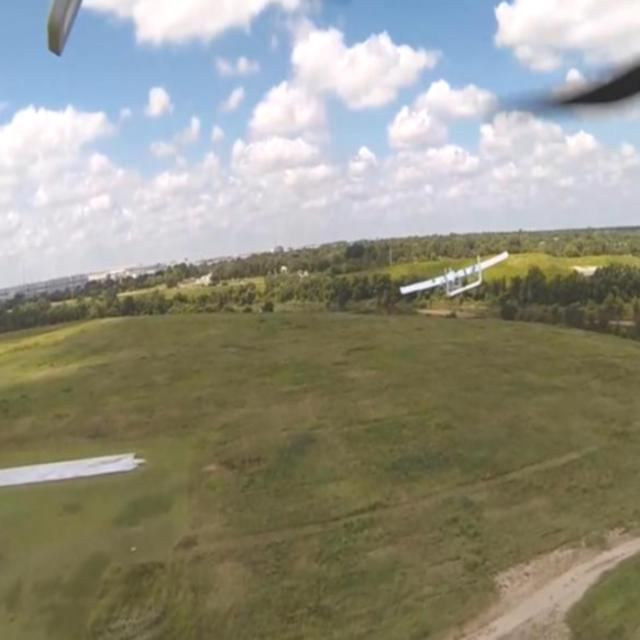plane: (399, 248, 510, 302)
